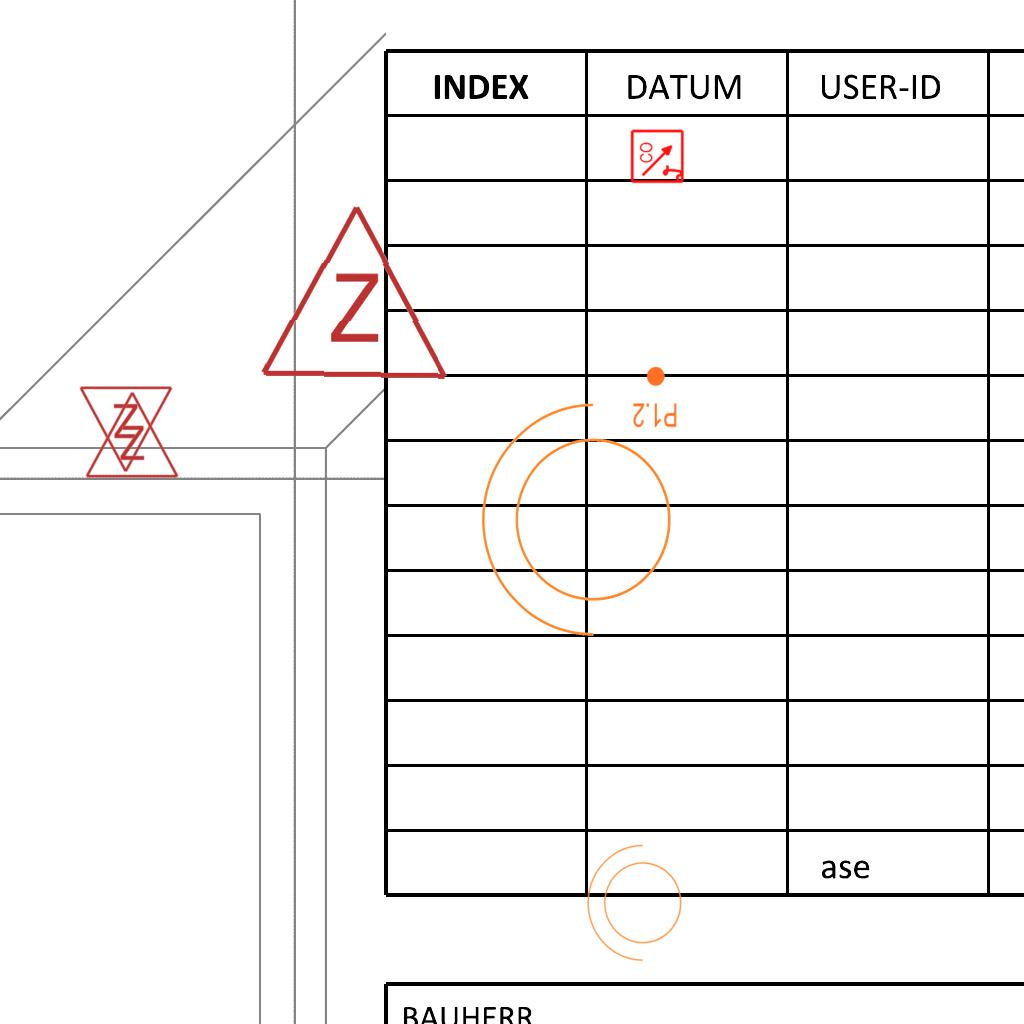Downlight_LED_Einbauleuchten_Flur: (632, 365, 678, 429)
ROA_Rauchmelder_optisch_mit_Signalgeber_(Sockelsirene): (630, 128, 686, 184)
Scheinwerfer_fuer_Alarmbeleuchtung: (471, 394, 696, 658), (582, 840, 694, 972)
Zimmersignalleuchte: (253, 190, 453, 394), (78, 379, 176, 479), (82, 385, 180, 485)
